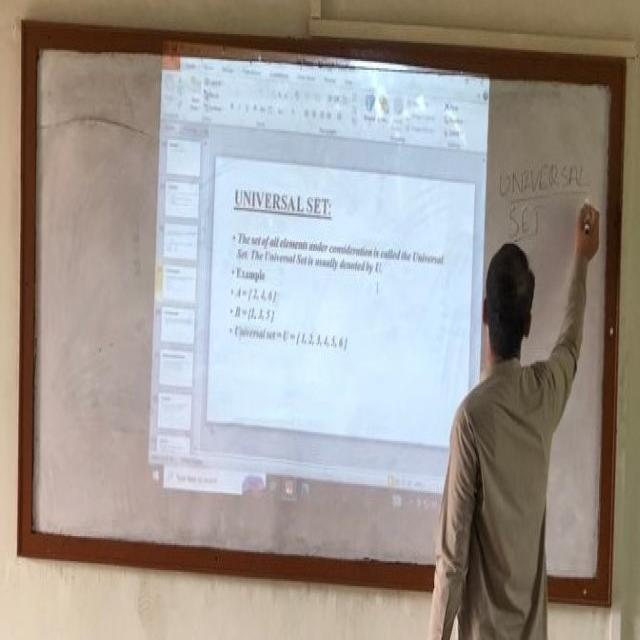Instructor: (448, 223, 562, 640)
Slide: (143, 34, 489, 544)
White-board: (24, 28, 621, 596)
